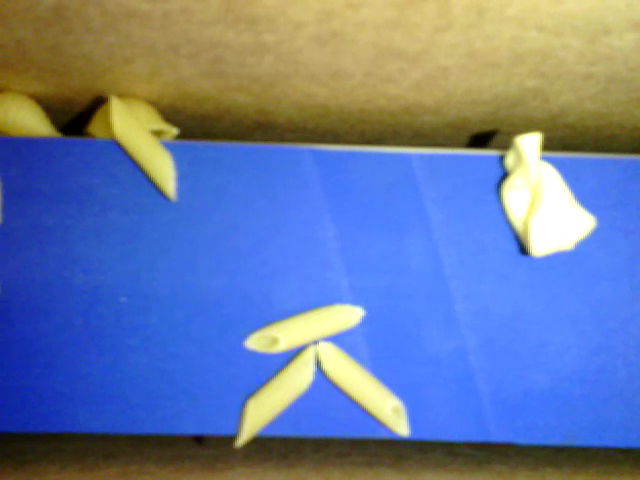penne: (314, 332, 412, 433), (104, 91, 175, 202), (235, 349, 313, 449), (241, 298, 367, 347)
shell: (85, 94, 180, 139), (1, 85, 70, 141)
tortellini: (495, 124, 600, 258)
